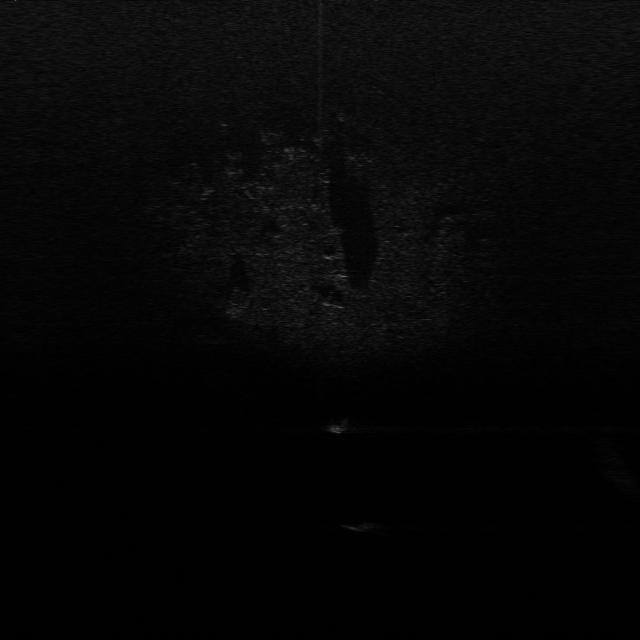cube: (340, 512, 380, 536)
square cage: (316, 410, 356, 437)
